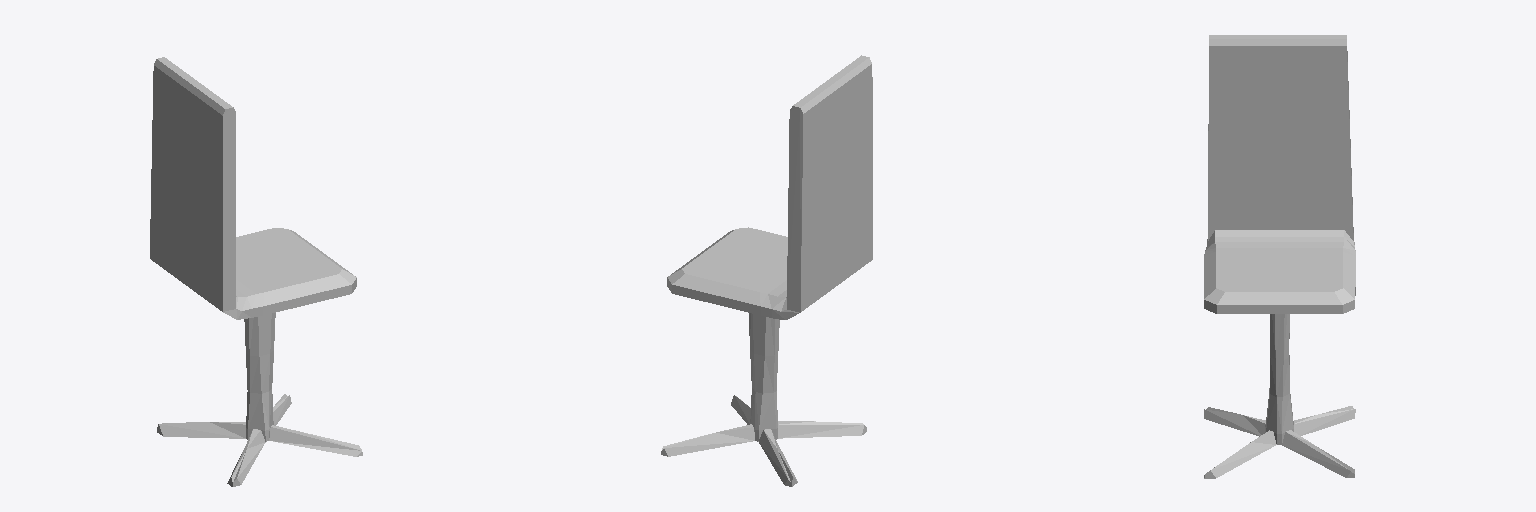
File: Chair.obj
The picture shows the model from 3 angles: view 1: azimuth 30°, elevation 25°; view 2: azimuth 150°, elevation 25°; view 3: azimuth 270°, elevation 25°; orthographic projection.
Visible parts, largest first — view 1: Box01; view 2: Box01; view 3: Box01.
Part boxes in pixels (x1,y1,x2,y2): Box01: (150,57,362,486); Box01: (661,55,872,486); Box01: (1204,35,1355,478).
Bounding box in the file's own units: 34.61 × 89.94 × 32.76.